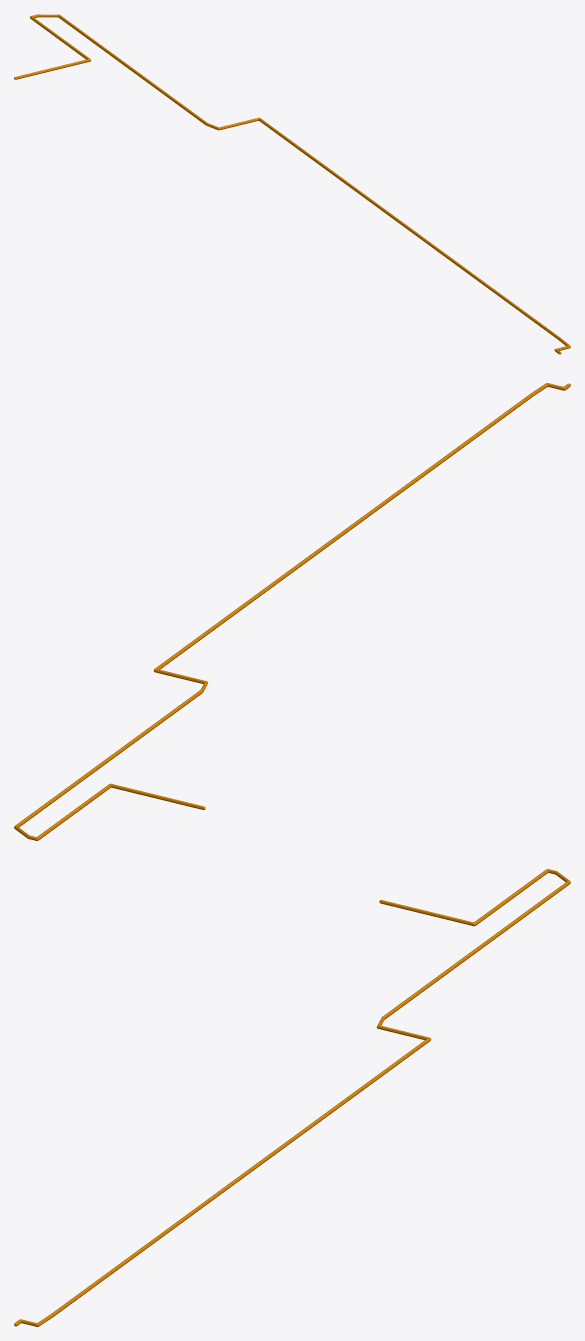
3 renders of one model, top to bottom at view 1: azimuth 30°, elevation 25°; view 2: azimuth 150°, elevation 25°; view 3: azimuth 330°, elevation 25°, orthographic. The views are drawn at different scales.
Bounding box in the file's own units: 1066 × 20 × 6134.
